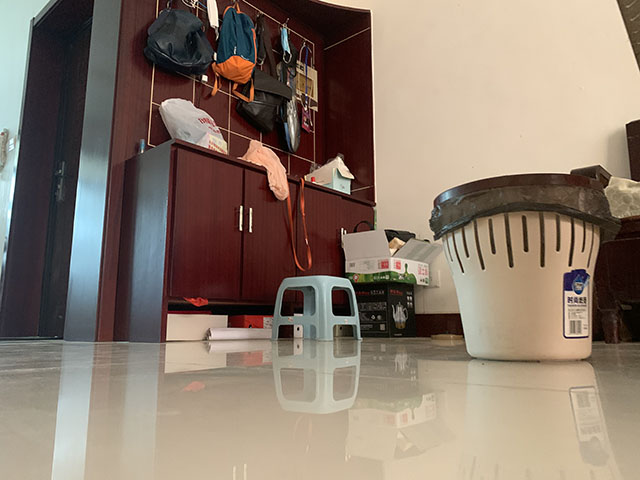cabinet: (118, 139, 380, 343)
stool: (270, 275, 365, 343)
trashcan: (428, 165, 622, 364)
